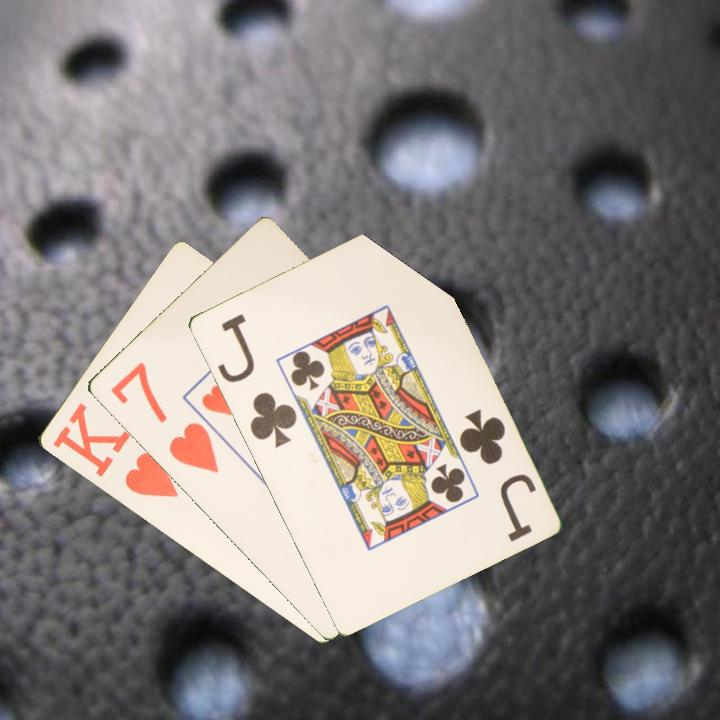7h: (106, 358, 222, 476)
Jc: (213, 310, 300, 451), (455, 405, 539, 545)
Kh: (48, 399, 181, 501)
